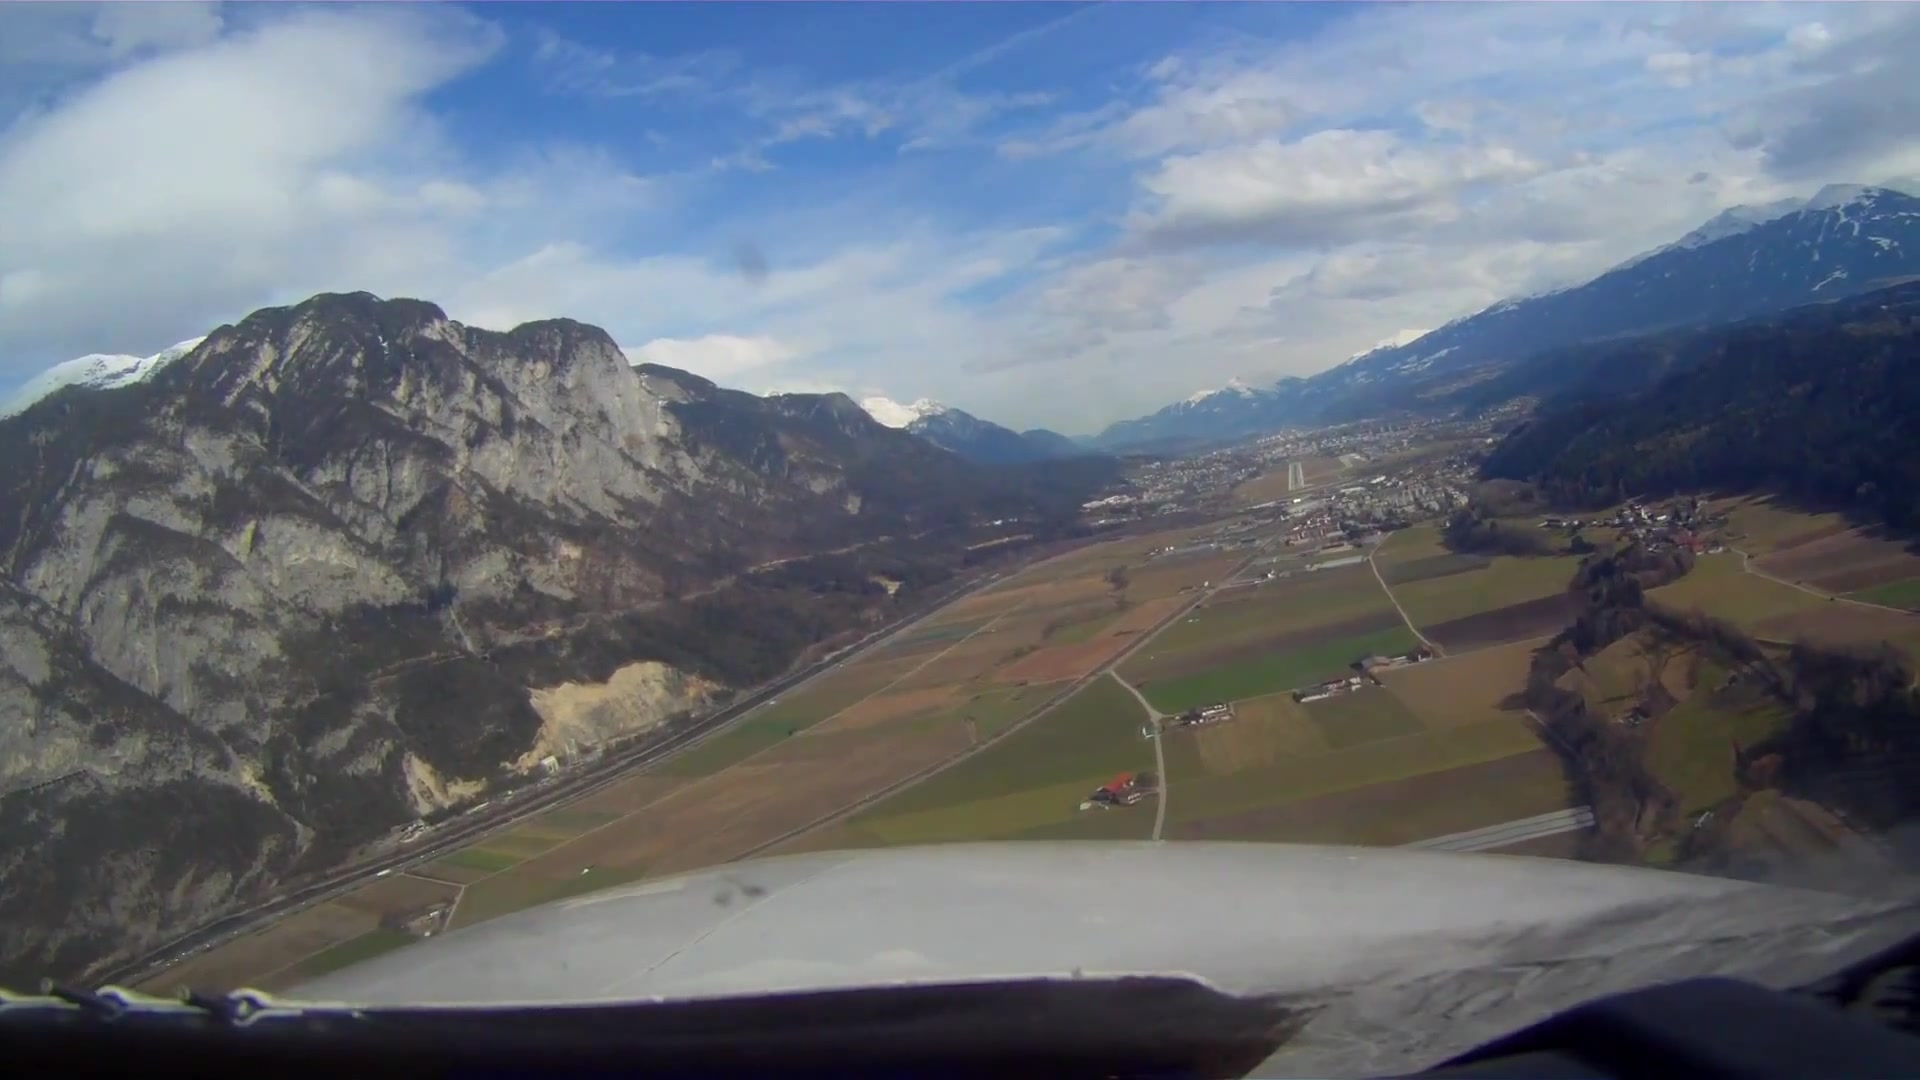runway: (1287, 462, 1304, 492)
